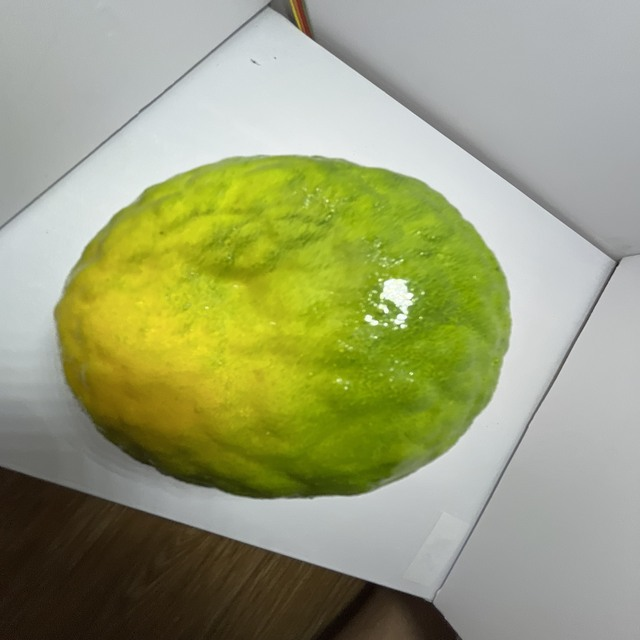Cam xanh: (49, 153, 523, 507)
